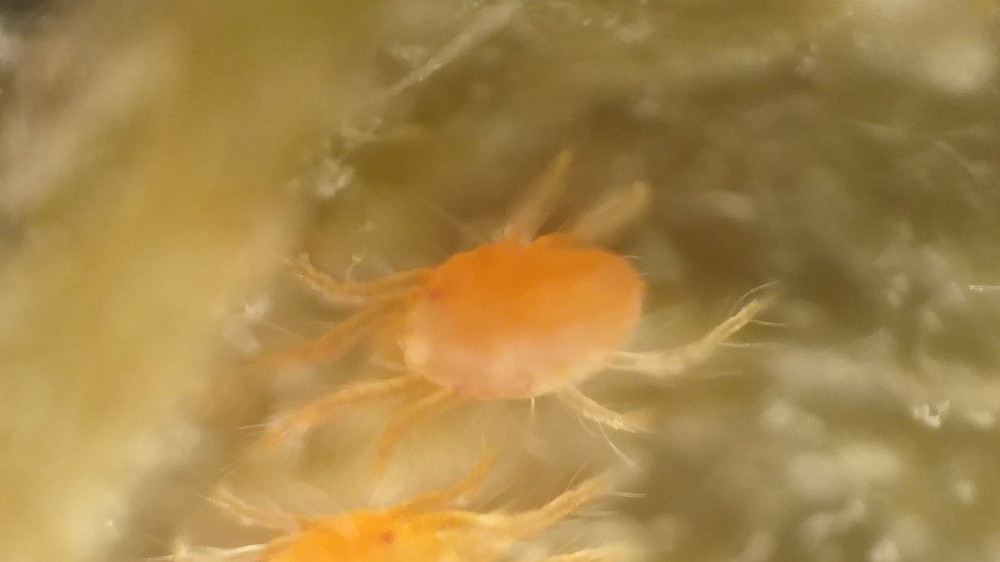Aracnido Rojo: (248, 148, 787, 490)
